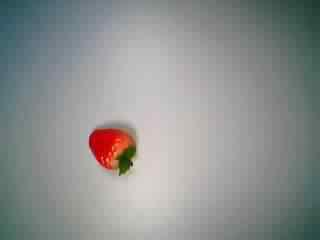strawberry: (81, 116, 147, 182)
